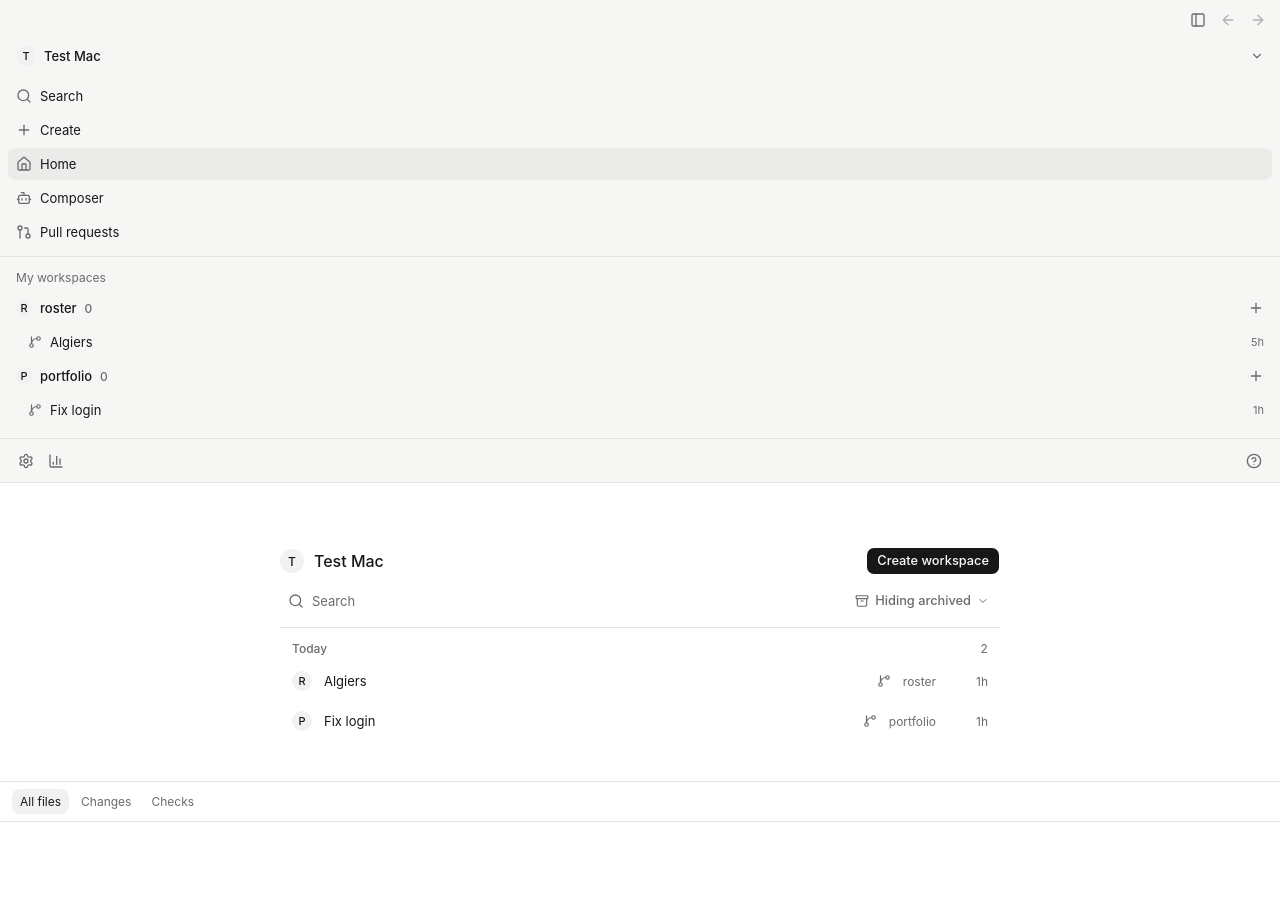
Test: Command palette › toggles with Cmd+K and opens from the sidebar Search item
Expected: the element that starts with "Test Mac" is shown, [280, 547, 1000, 741]
Type keys "{Meta>}k{/Meta}"
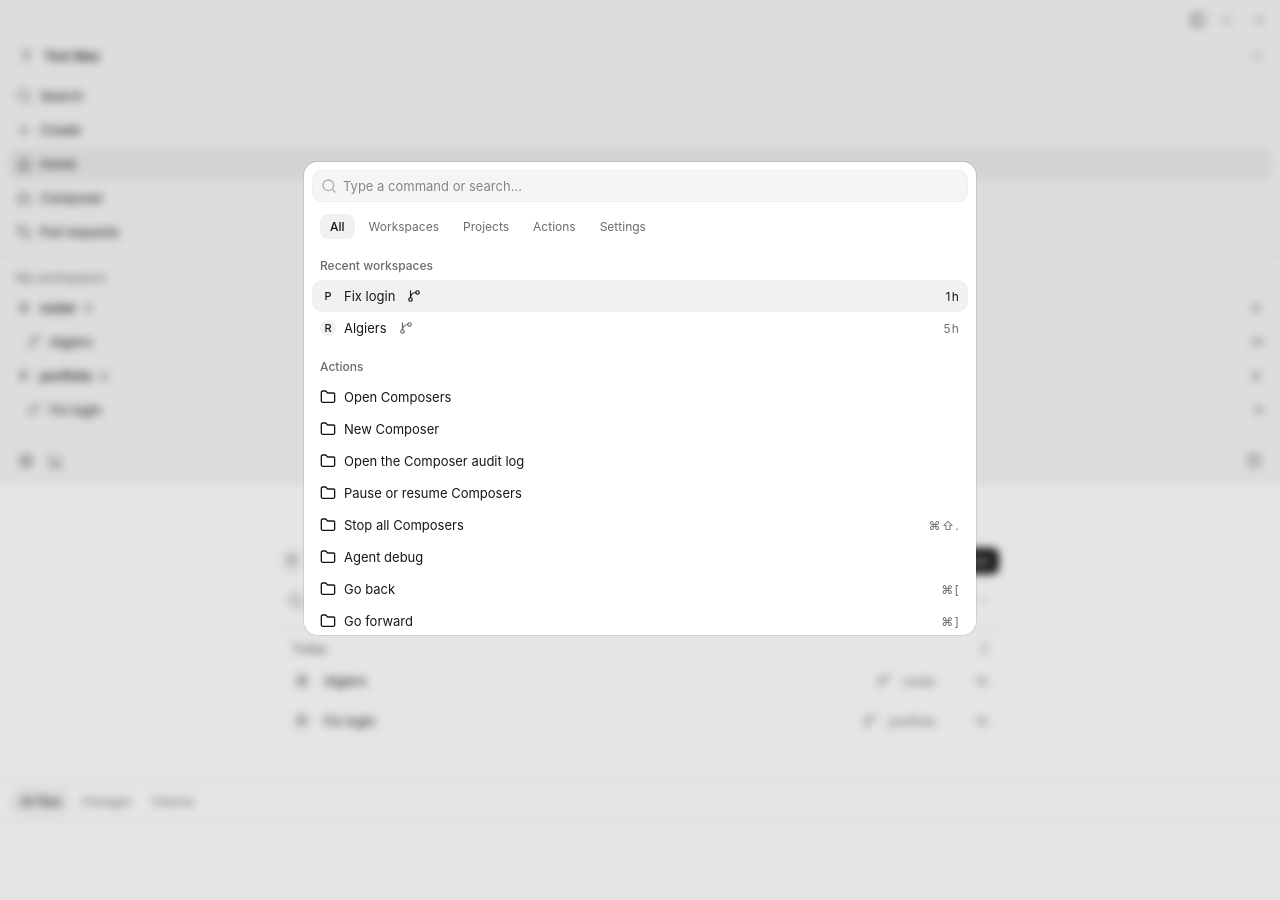
Type keys "{Meta>}k{/Meta}"
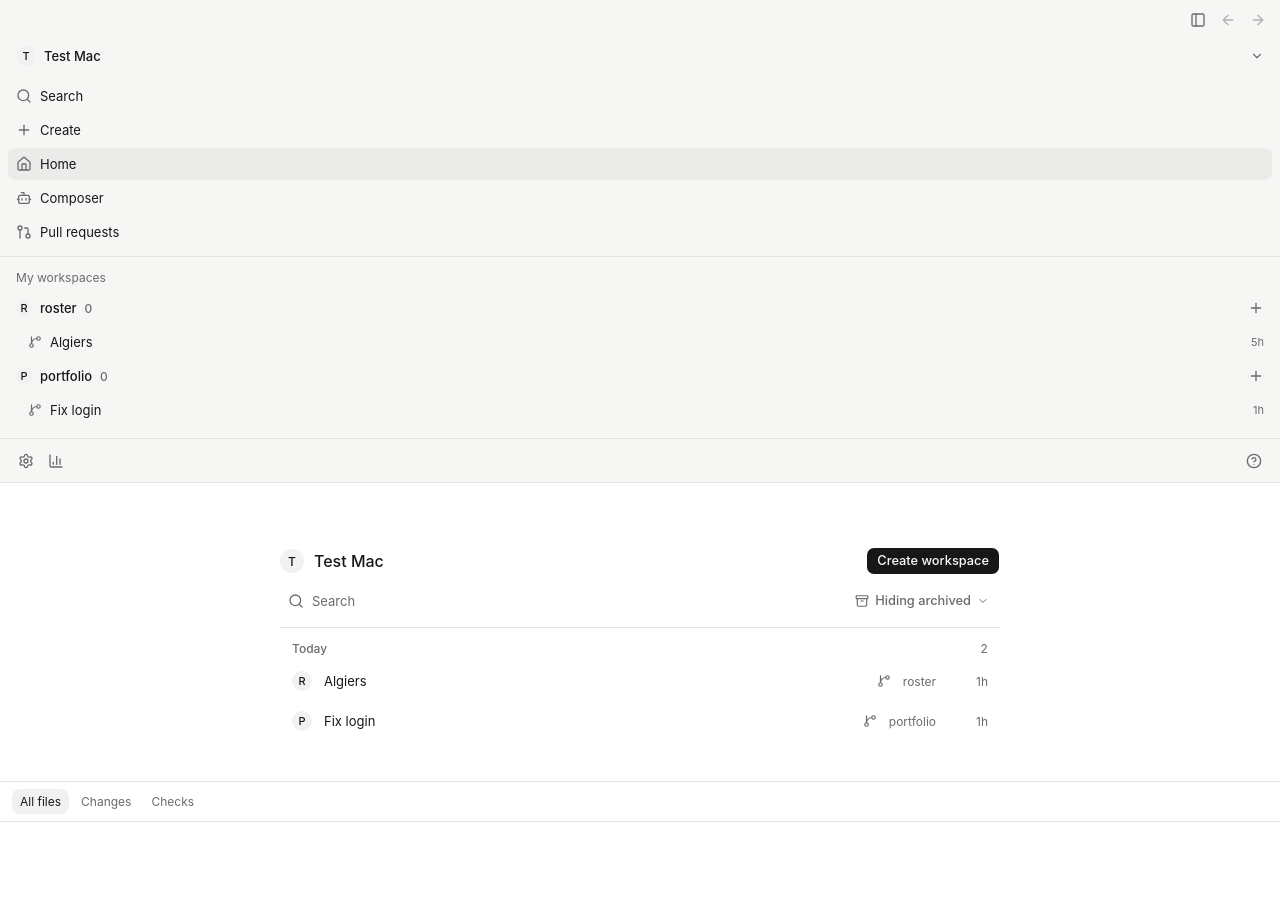
Click the button "Search": click(62, 96) [8, 80, 1272, 112]
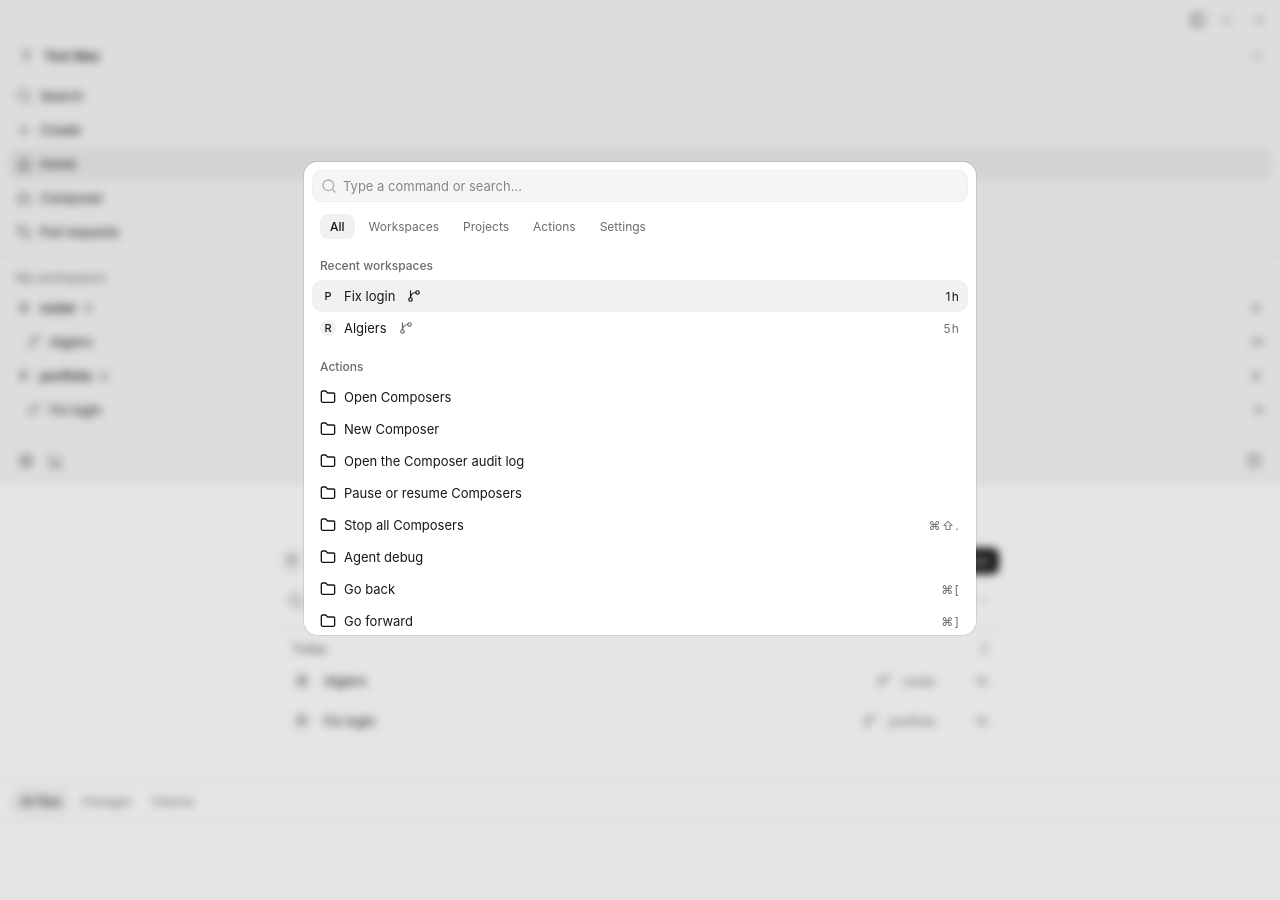
Result: the dropdown with placeholder "Type a command or search..." is shown at [337, 176, 967, 196]
